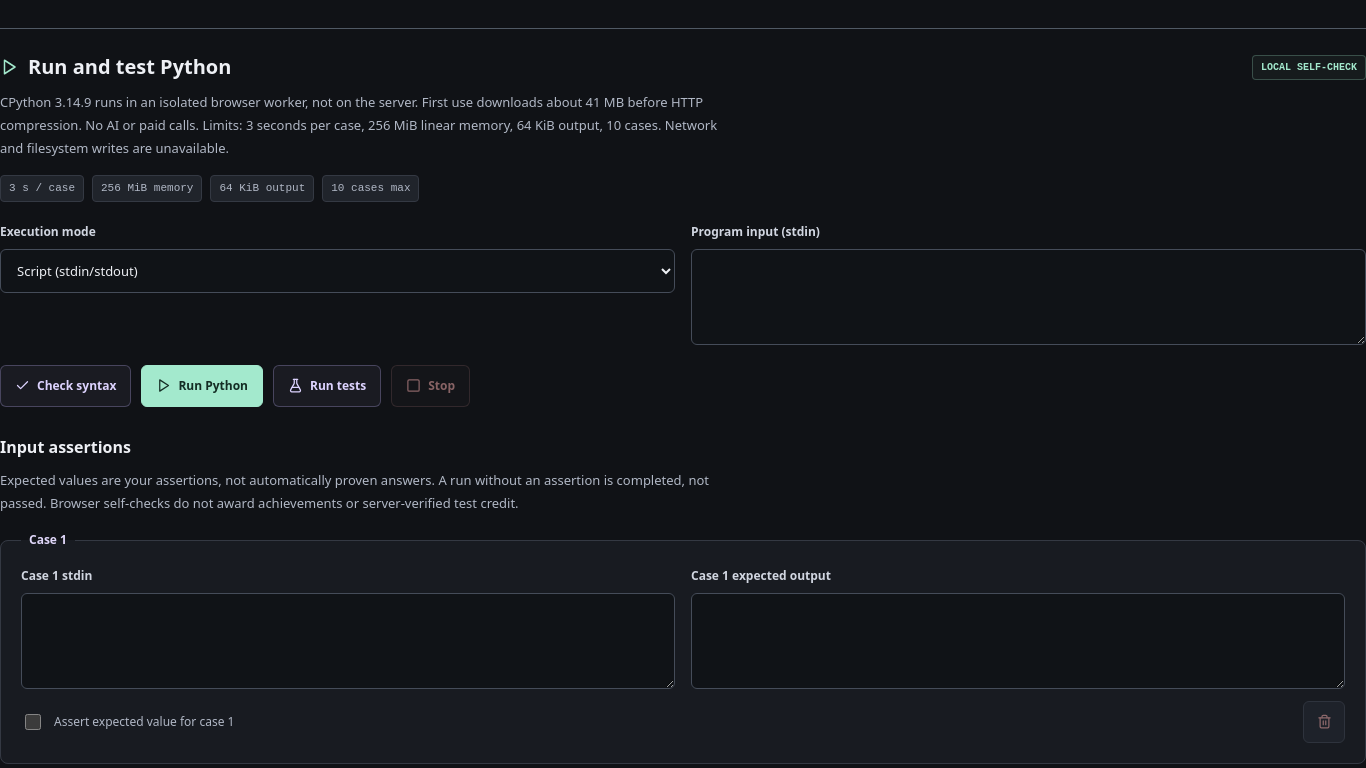
input validation and case bounds › reports oversized source as an input error rather than an engine failure
Click the button "Check syntax". click: [66, 386]
box: [0,365,131,407]
(page scrolled)
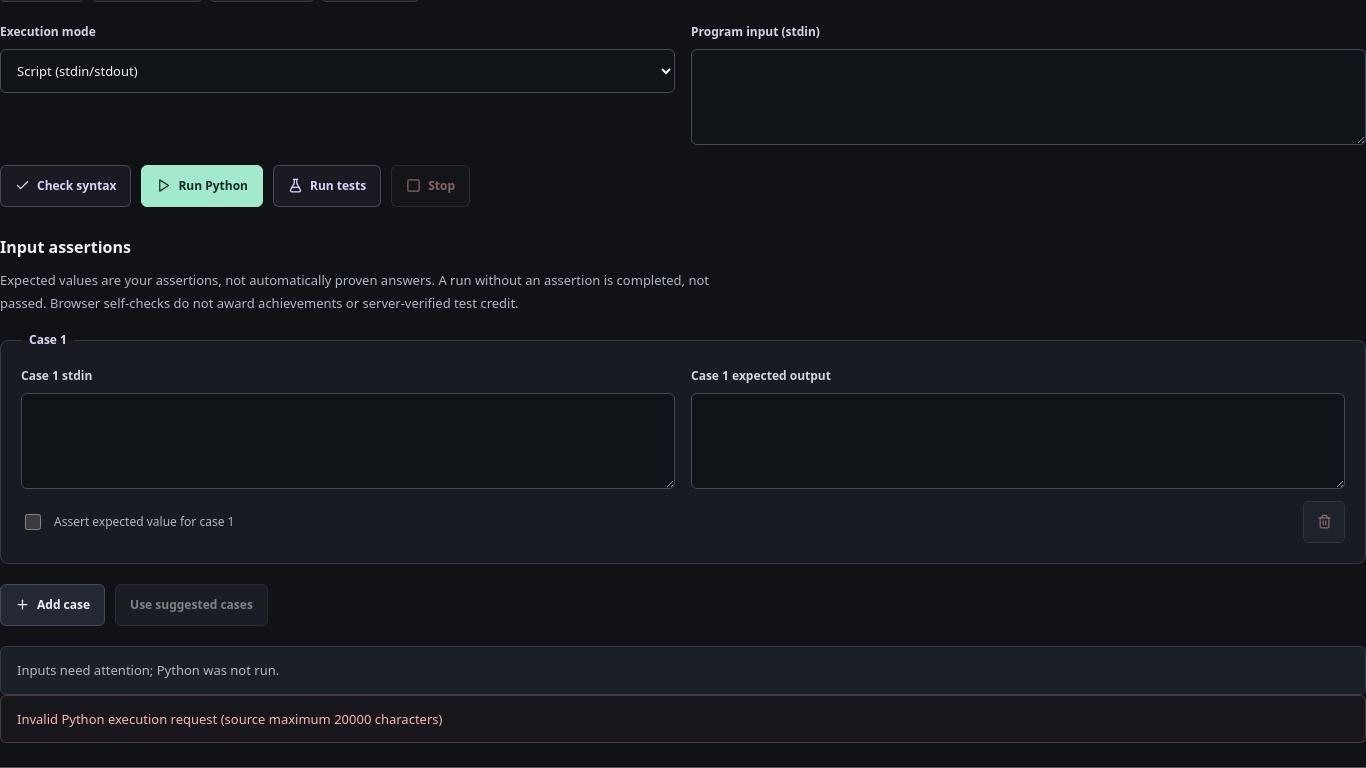
Now the message "Invalid Python execution request (source maximum 20000 characters)" is shown, box [0,695,1365,743]
